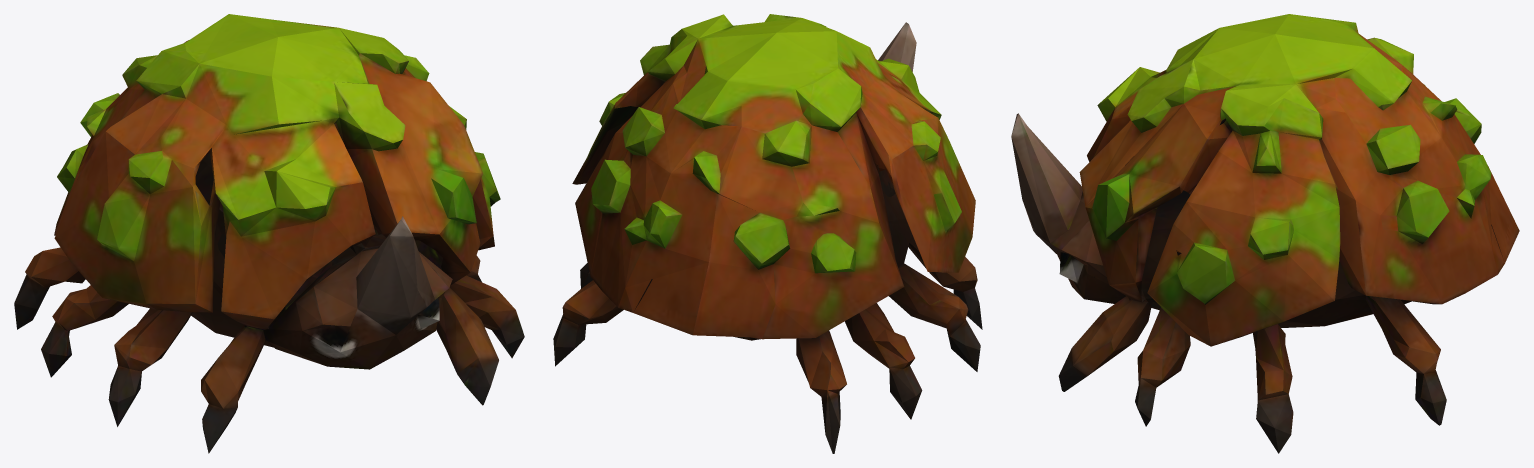
File: monstre_scarabee_ecorce.glb
The picture shows the model from 3 angles, left to right: view 1: azimuth 30°, elevation 25°; view 2: azimuth 150°, elevation 25°; view 3: azimuth 270°, elevation 25°; orthographic projection. The views are drawn at different scales.
Visible parts, largest first — view 1: geometry_0; view 2: geometry_0; view 3: geometry_0.
Boxes of the visible parts, x1,y1,x2,y2 form: geometry_0: (14, 14, 524, 453); geometry_0: (553, 14, 982, 453); geometry_0: (1011, 14, 1519, 453).
Size of the model in its own units: 0.8895 by 0.7048 by 0.9981.
1 material, 1 textured.
